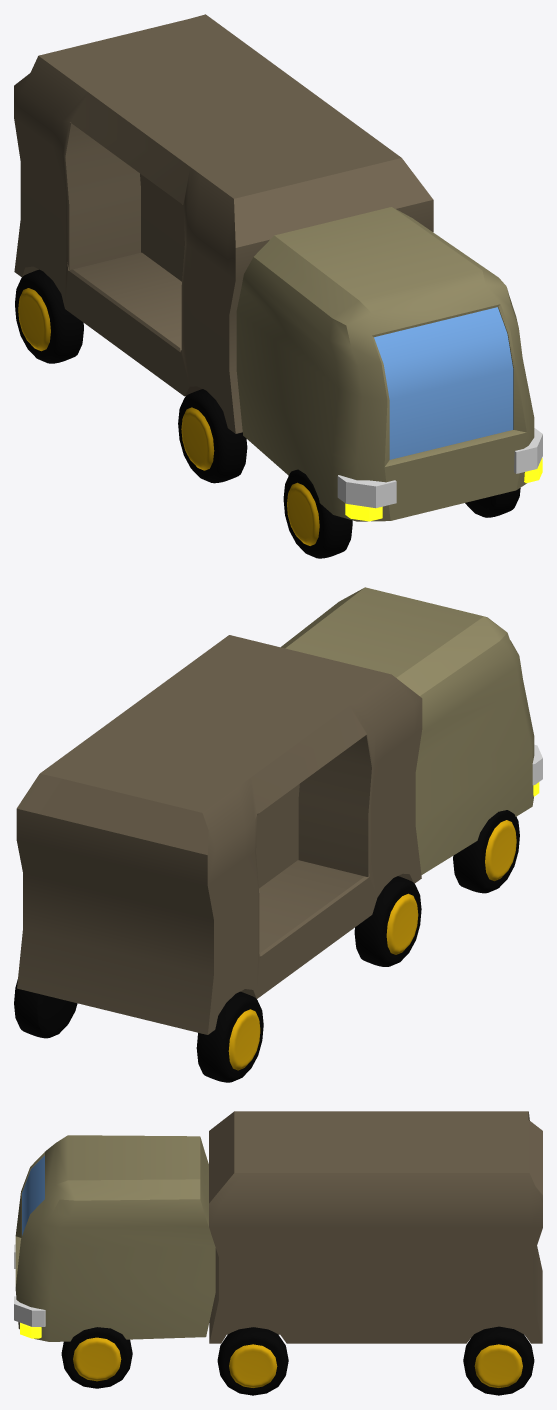
The model's file is car.fbx.
The picture shows the model from 3 angles, top to bottom: view 1: azimuth 30°, elevation 25°; view 2: azimuth 150°, elevation 25°; view 3: azimuth 270°, elevation 25°; orthographic projection. The views are drawn at different scales.
Visible parts, largest first — view 1: Cube.182; view 2: Cube.182; view 3: Cube.182.
Part boxes in pixels (left/top/right/bottom): Cube.182: left=14, top=14, right=542, bottom=558; Cube.182: left=14, top=587, right=542, bottom=1082; Cube.182: left=14, top=1111, right=542, bottom=1395.
Size of the model in its own units: 473 by 578 by 1284.
